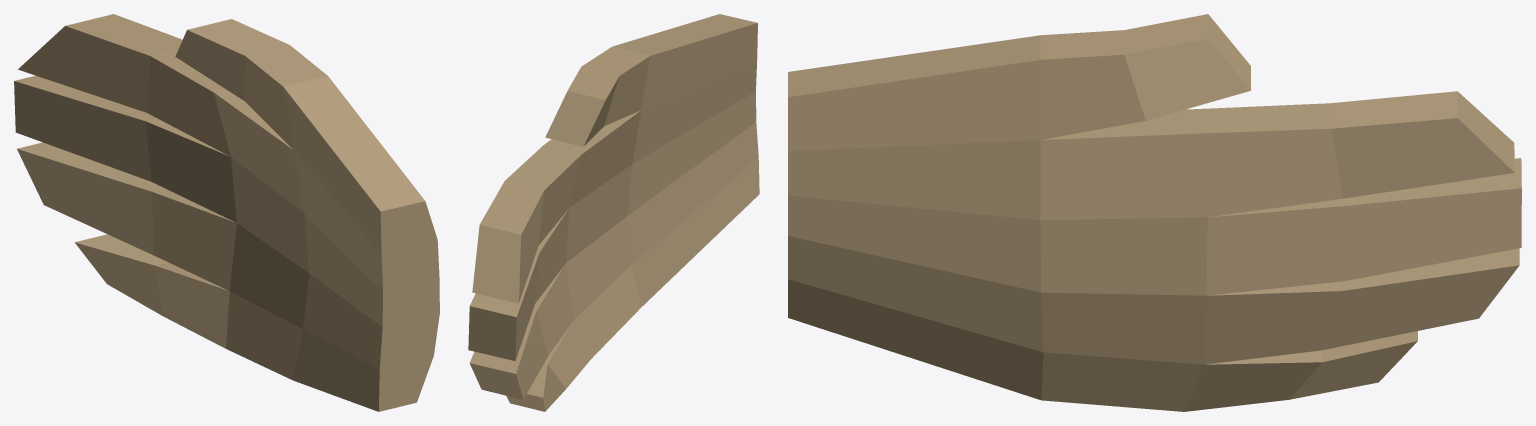
Rendered from righthand.fbx.
3 views of the same model, side by side, from view 1: azimuth 30°, elevation 25°; view 2: azimuth 150°, elevation 25°; view 3: azimuth 270°, elevation 25° (orthographic). The views are drawn at different scales.
Visible parts, largest first — view 1: Cube; view 2: Cube; view 3: Cube.
Boxes of the visible parts, x1,y1,x2,y2 form: Cube: [14, 14, 439, 411]; Cube: [468, 14, 759, 411]; Cube: [788, 14, 1521, 411].
Bounding box in the file's own units: 285 × 680 × 1259.
